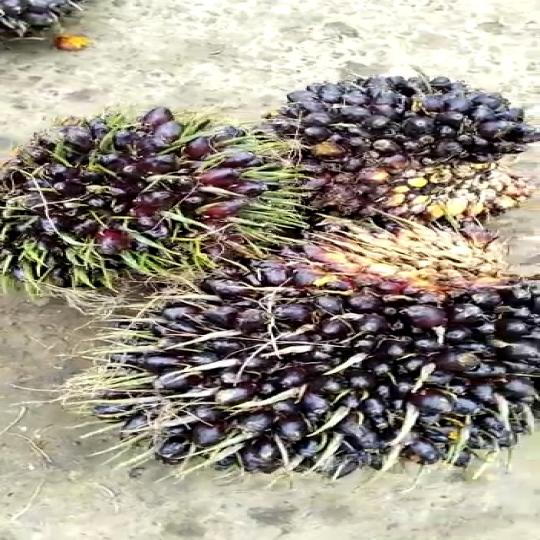mentah: (96, 240, 540, 485), (0, 100, 316, 301), (252, 73, 540, 228)
